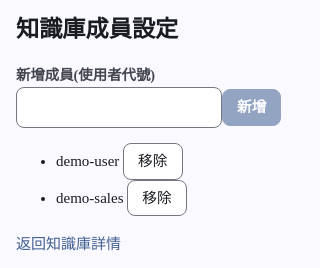
Scenario: KnowledgeMemberEditor (E05-S007) › removing a member sends the rest of the list unchanged
Click the button "移除" next to "demo-user": (153,161) 123,143 -> 183,180
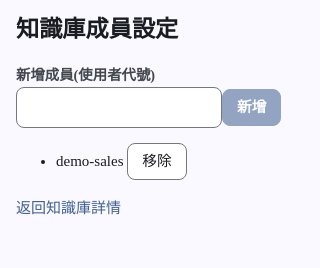
expect the list item "demo-sales" is shown: met, box 56,153 -> 124,169
expect the list item "demo-user" is gone: met
